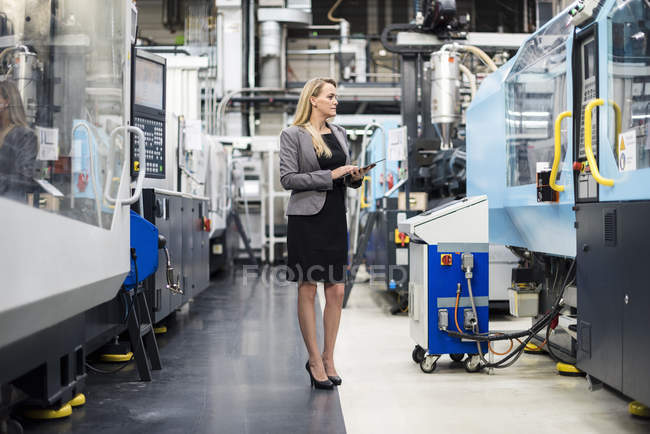person: (280, 78, 372, 389)
